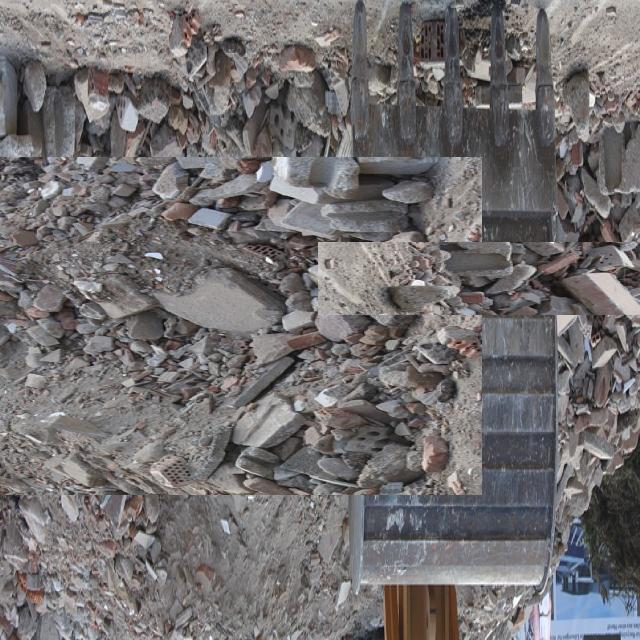garbage: (0, 85, 411, 568), (439, 121, 640, 437)
